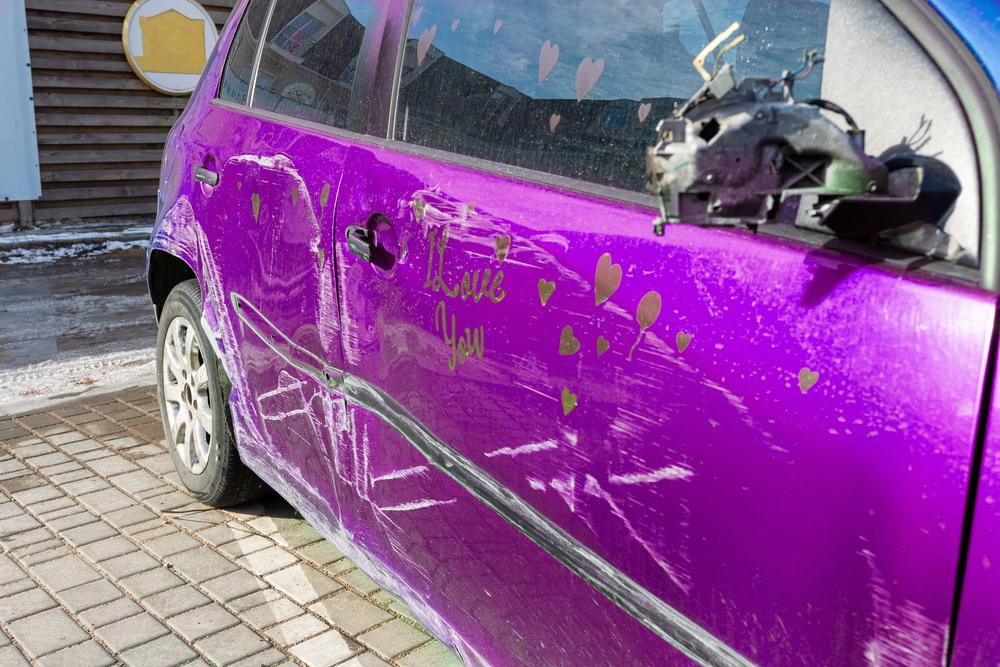scratch: (412, 191, 775, 600), (153, 205, 350, 542), (343, 374, 488, 667), (225, 145, 341, 352), (857, 534, 947, 667), (336, 238, 362, 365)
